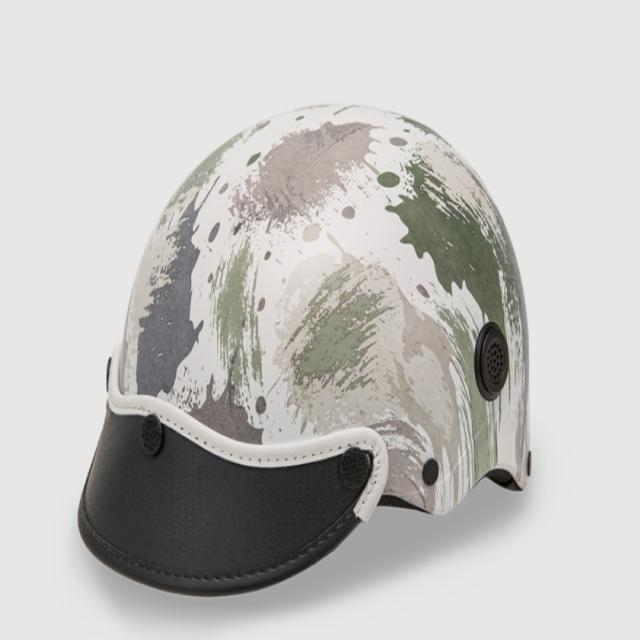Helmet: (74, 96, 537, 598)
